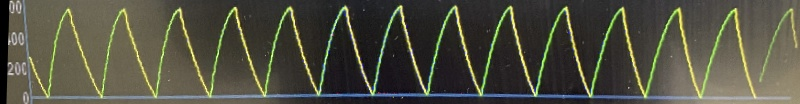normal_volume: (43, 0, 765, 103)
